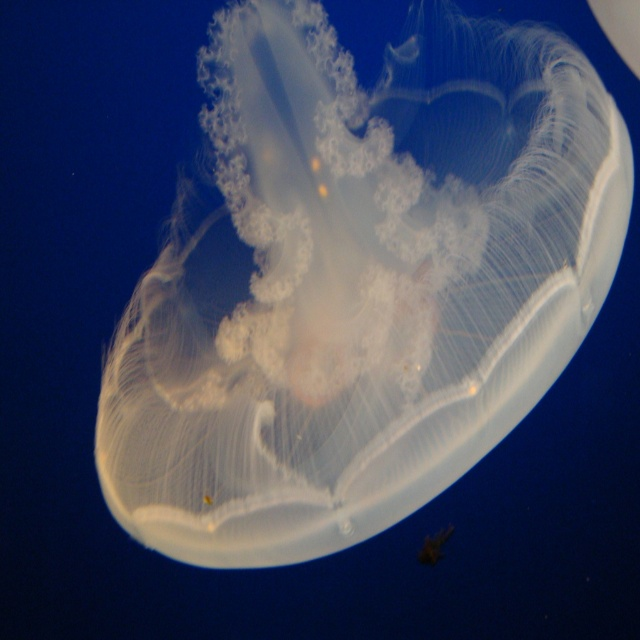Jellyfish: (92, 0, 620, 594)
